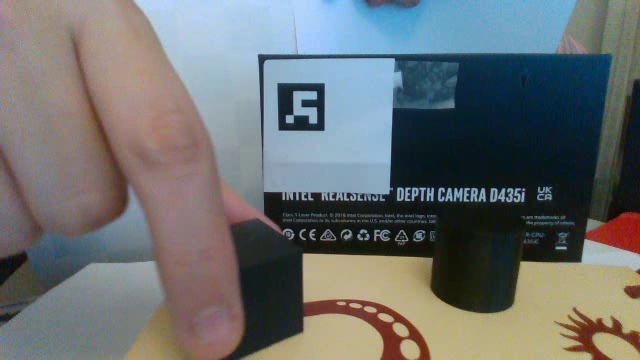cube: (197, 218, 309, 360)
cylindre: (424, 196, 533, 318)
